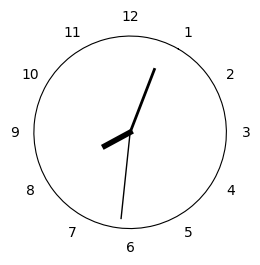12: (122, 10, 139, 23)
circle: (33, 35, 227, 229)
hours: (101, 132, 130, 149)
minutes: (131, 68, 156, 130)
seconds: (121, 135, 130, 219)
